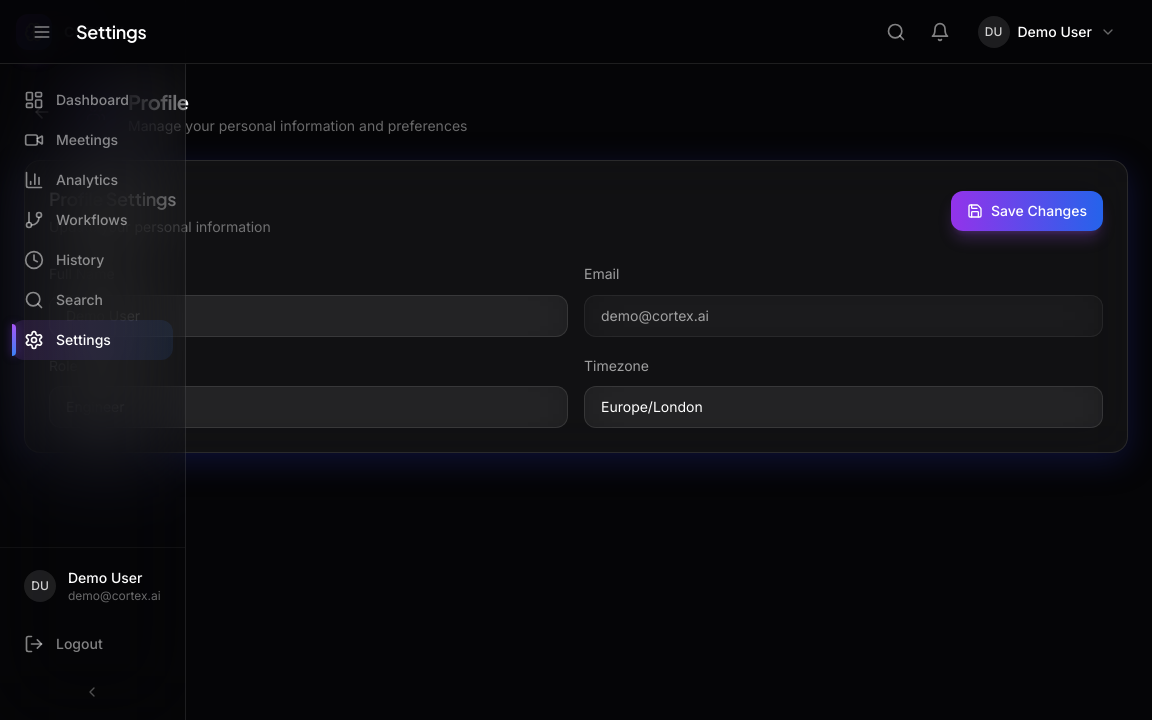
Test: Profile Settings › shows success message after save
Step 1. Click the button with test id "save-profile" → (1027, 211), box [951,191,1103,231]
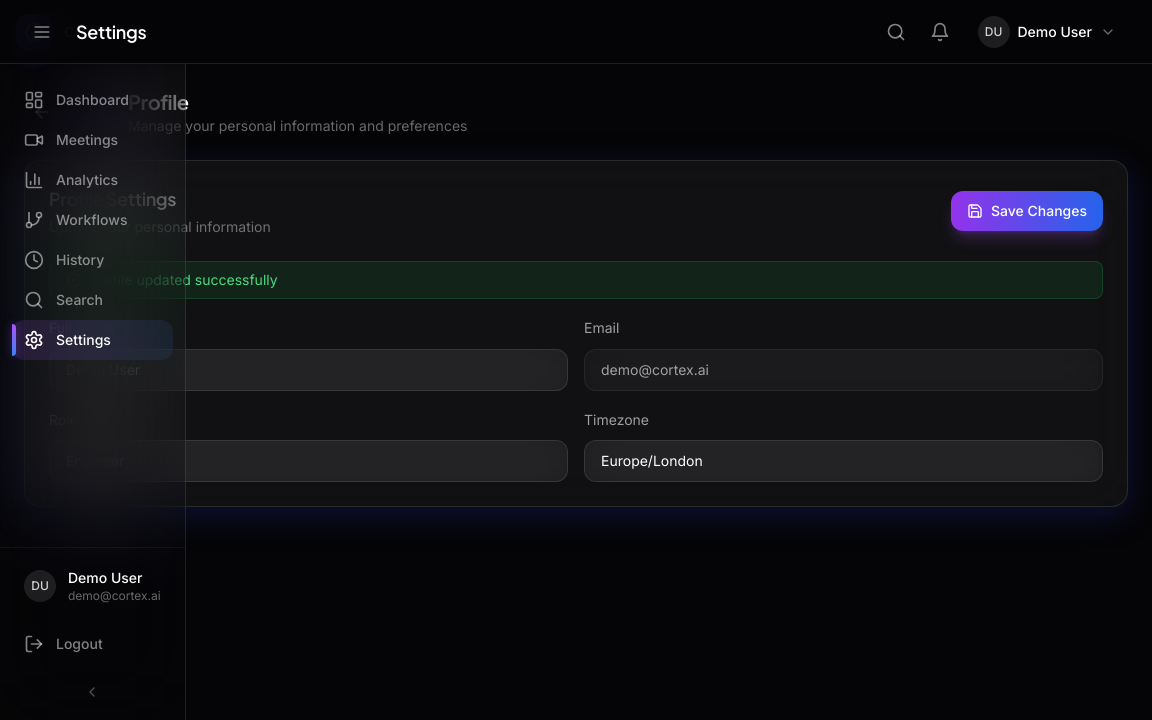
Result: the element with test id "profile-success" is shown at [49,261,1103,299]
Result: the text "Profile updated successfully" is shown at [90,270,278,290]
